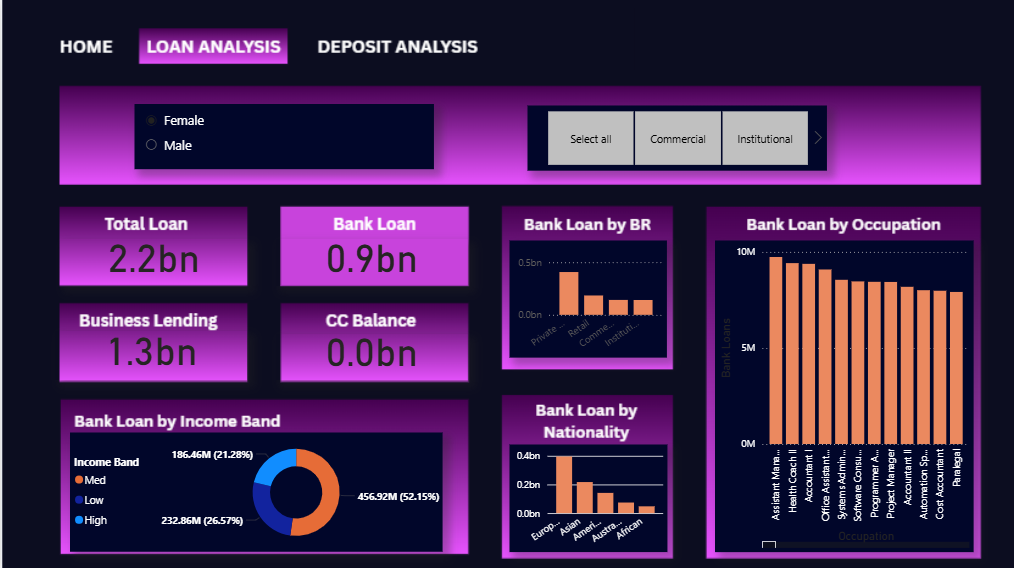

The page's visual inventory and layout, read from the dashboard file:
{"tool":"powerbi","page":{"name":"Loan Analysis","canvas":[1280,720],"ordinal":1},"visuals":[{"type":"actionButton","box":[168.3,28.3,191.7,53.3],"z":0},{"type":"actionButton","box":[388.3,28.3,215,53.3],"z":1000},{"type":"card","fields":{"Values":["banking-clients.Total Loan"]},"box":[73.3,301.7,236.7,58.3],"z":3000},{"type":"card","fields":{"Values":["Sum(banking-clients.Business Lending)"]},"box":[68.3,416.7,241.7,61.7],"z":4000},{"type":"card","fields":{"Values":["Sum(banking-clients.Bank Loans)"]},"box":[345,301.7,241.7,58.3],"z":5000},{"type":"card","fields":{"Values":["Sum(banking-clients.Credit Card Balance)"]},"box":[345,420,241.7,58.3],"z":6000},{"type":"donutChart","fields":{"Category":["banking-clients.Income Band"],"Y":["Sum(banking-clients.Bank Loans)"]},"box":[86.7,545,468.3,150],"z":7000},{"type":"clusteredColumnChart","fields":{"Category":["banking-clients.Nationality"],"Y":["Sum(banking-clients.Bank Loans)"]},"box":[640,560,198.3,135],"z":8000},{"type":"clusteredColumnChart","fields":{"Category":["banking-clients.BRId"],"Y":["Sum(banking-clients.Bank Loans)"]},"box":[639.6,303.8,198.1,147.2],"z":9000},{"type":"clusteredColumnChart","fields":{"Category":["banking-clients.Occupation"],"Y":["Sum(banking-clients.Bank Loans)"]},"box":[898.3,303.3,325,391.7],"z":10000},{"type":"actionButton","box":[56.7,28.3,100,66.7],"z":11000},{"type":"slicer","fields":{"Values":["banking-clients.GenderId"]},"box":[168.3,131.7,376.7,81.7],"z":12000},{"type":"slicer","fields":{"Values":["banking-clients.BRId"]},"box":[661.7,133.3,376.7,81.7],"z":13000},{"type":"image","box":[620.8,5.7,183,88.7],"z":13001}]}

Visuals, with their boxes in screenshot pixels (x1, y1, x2, y2), scaled from the page's 1280x720 canvas onto the 1014x568 screenshot:
actionButton: select_region(133, 22, 285, 64)
actionButton: select_region(308, 22, 478, 64)
card - banking-clients.Total Loan: select_region(58, 238, 246, 284)
card - Sum(banking-clients.Business Lending): select_region(54, 329, 246, 377)
card - Sum(banking-clients.Bank Loans): select_region(273, 238, 465, 284)
card - Sum(banking-clients.Credit Card Balance): select_region(273, 331, 465, 377)
donutChart - banking-clients.Income Band x Sum(banking-clients.Bank Loans): select_region(69, 430, 440, 548)
clusteredColumnChart - banking-clients.Nationality x Sum(banking-clients.Bank Loans): select_region(507, 442, 664, 548)
clusteredColumnChart - banking-clients.BRId x Sum(banking-clients.Bank Loans): select_region(507, 240, 664, 356)
clusteredColumnChart - banking-clients.Occupation x Sum(banking-clients.Bank Loans): select_region(712, 239, 969, 548)
actionButton: select_region(45, 22, 124, 75)
slicer - banking-clients.GenderId: select_region(133, 104, 432, 168)
slicer - banking-clients.BRId: select_region(524, 105, 823, 170)
image: select_region(492, 4, 637, 74)
